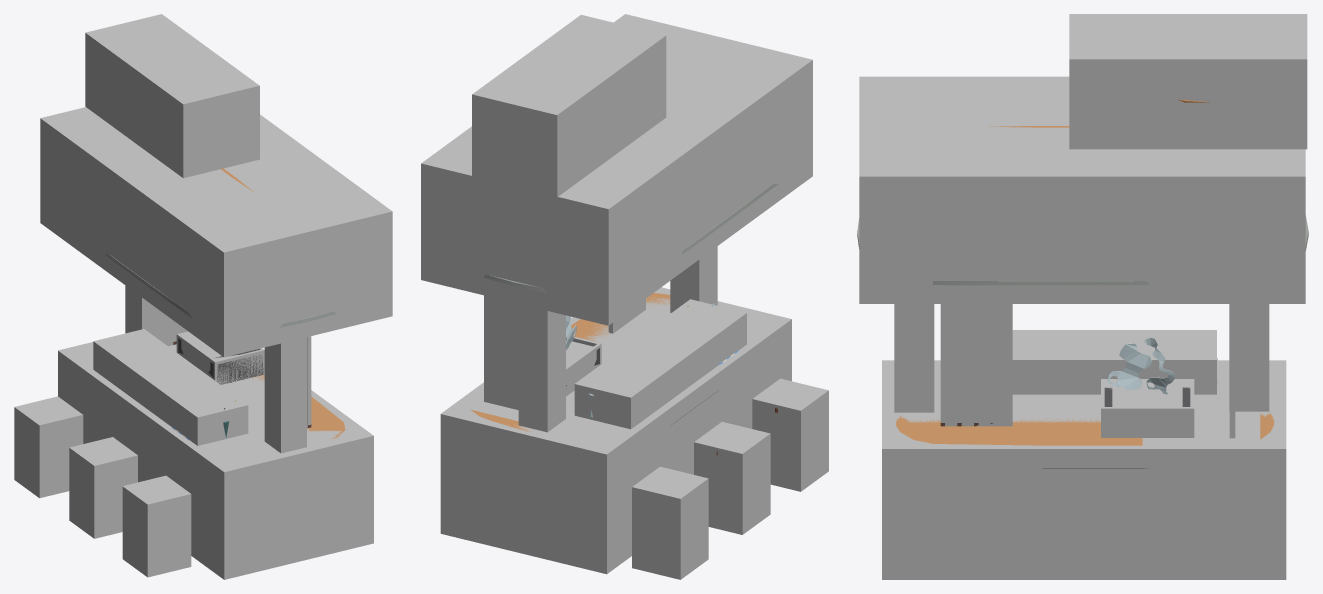
File: SM_Hot_Dog.fbx
3 renders of one model, left to right at view 1: azimuth 30°, elevation 25°; view 2: azimuth 150°, elevation 25°; view 3: azimuth 270°, elevation 25°, orthographic. The views are drawn at different scales.
Visible parts, largest first — view 1: SM_Hot_Dog_ConvexHulls, SM_Hot_Dog; view 2: SM_Hot_Dog_ConvexHulls, SM_Hot_Dog; view 3: SM_Hot_Dog_ConvexHulls, SM_Hot_Dog.
Part boxes in pixels (x1,y1,x2,y2): SM_Hot_Dog_ConvexHulls: (14,14,392,579); SM_Hot_Dog: (106,168,345,439); SM_Hot_Dog_ConvexHulls: (421,14,828,579); SM_Hot_Dog: (470,183,778,455); SM_Hot_Dog_ConvexHulls: (859,14,1307,579); SM_Hot_Dog: (857,99,1308,468).
Size of the model in its own units: 207 by 310 by 378.
